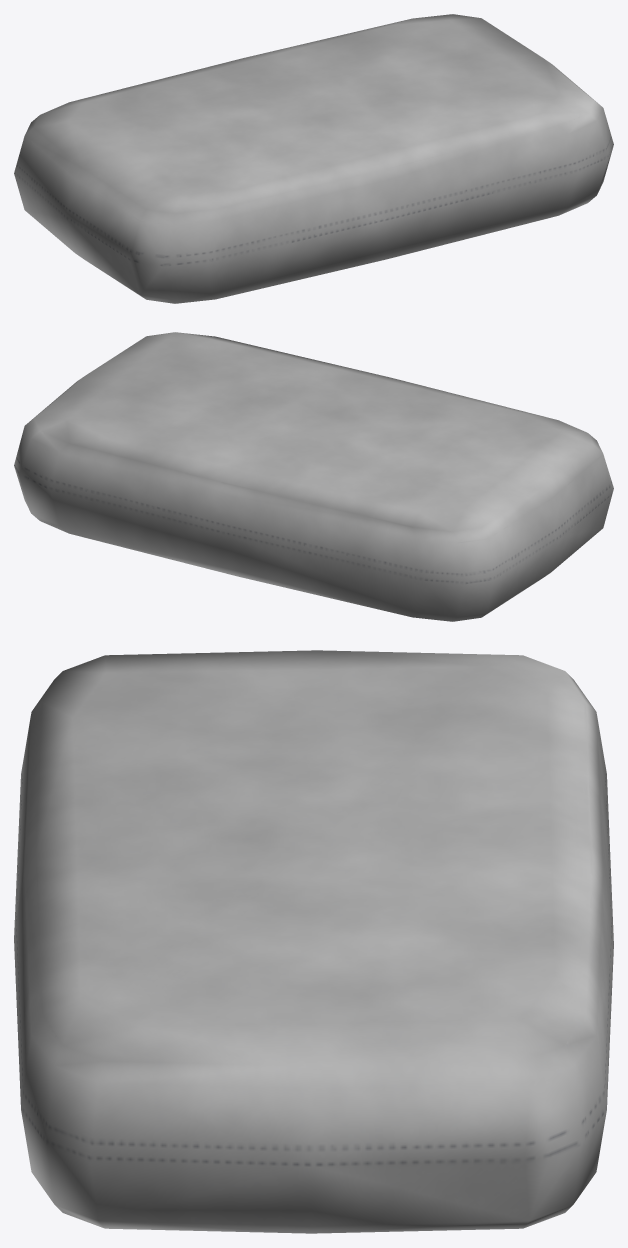
The model's file is LowerTorso_C1.fbx.
3 renders of one model, top to bottom at view 1: azimuth 30°, elevation 25°; view 2: azimuth 150°, elevation 25°; view 3: azimuth 270°, elevation 25°, orthographic. The views are drawn at different scales.
Parts seen in each view (by area): view 1: Civ_Jogging_LowerTorso_C1; view 2: Civ_Jogging_LowerTorso_C1; view 3: Civ_Jogging_LowerTorso_C1.
Boxes of the visible parts, x1,y1,x2,y2 form: Civ_Jogging_LowerTorso_C1: (14, 14, 613, 303); Civ_Jogging_LowerTorso_C1: (14, 332, 613, 621); Civ_Jogging_LowerTorso_C1: (14, 650, 613, 1233).
Size of the model in its own units: 2.28 by 0.4721 by 1.29.
